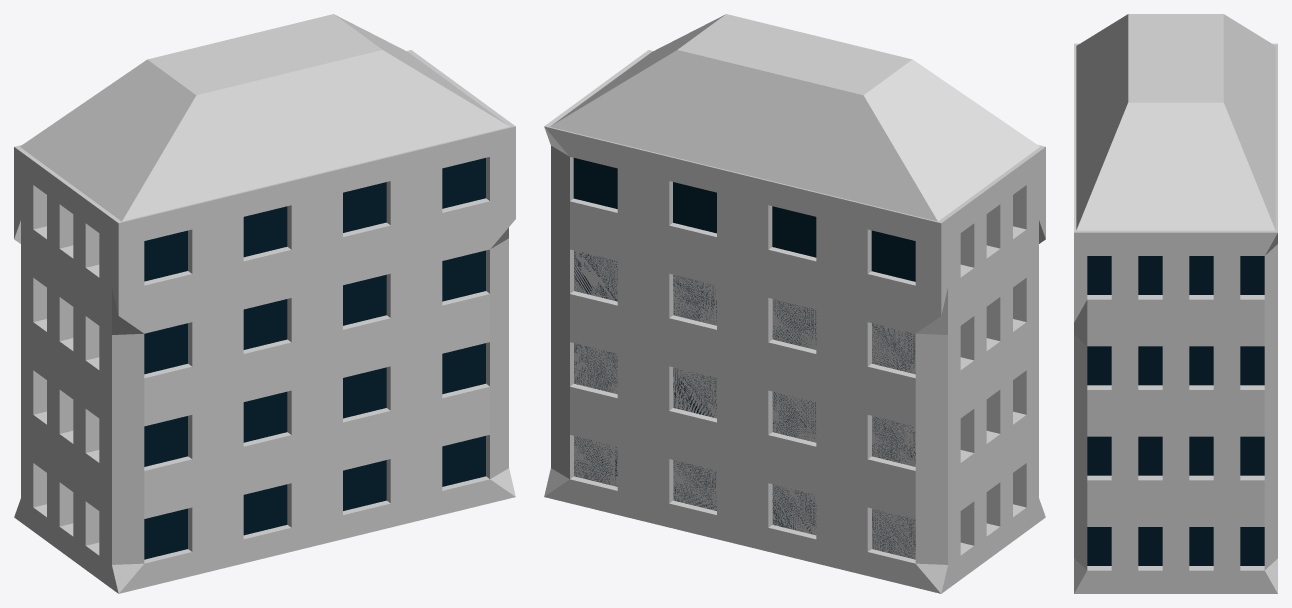
Rendered from scyscrapercolorblock2.fbx.
3 views of the same model, side by side, from view 1: azimuth 30°, elevation 25°; view 2: azimuth 150°, elevation 25°; view 3: azimuth 270°, elevation 25° (orthographic). The views are drawn at different scales.
Visible parts, largest first — view 1: Cube; view 2: Cube; view 3: Cube.
Boxes of the visible parts, box(x1,y1,x2,y2) form: Cube: box(14, 14, 515, 593); Cube: box(544, 14, 1045, 593); Cube: box(1074, 14, 1277, 593).
Size of the model in its own units: 17274 by 18806 by 7879.
